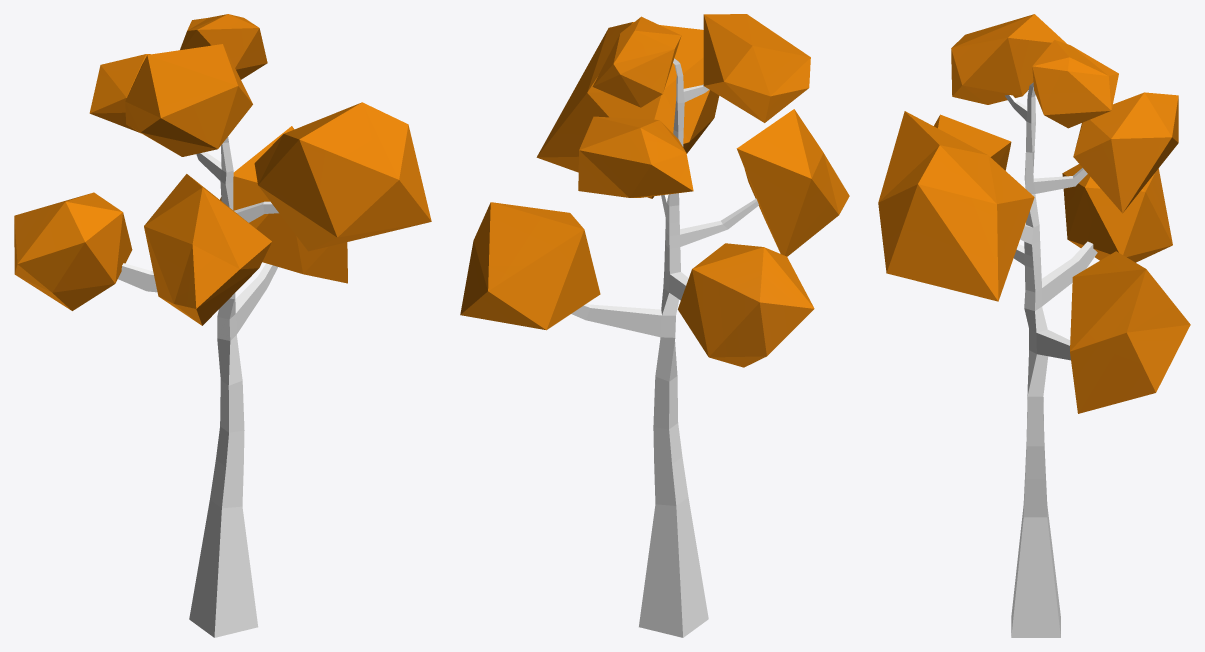
Rendered from birch-tree-orange-0.gltf.
3 views of the same model, side by side, from view 1: azimuth 30°, elevation 25°; view 2: azimuth 150°, elevation 25°; view 3: azimuth 270°, elevation 25° (orthographic). The views are drawn at different scales.
Parts seen in each view (by area): view 1: Cube; view 2: Cube; view 3: Cube.
Part boxes in pixels (bbox=[...]): Cube: bbox=[14, 14, 431, 637]; Cube: bbox=[460, 14, 849, 637]; Cube: bbox=[878, 14, 1190, 637].
Size of the model in its own units: 15.33 by 26.58 by 12.93.
Materials: 1 (1 with a texture image).
